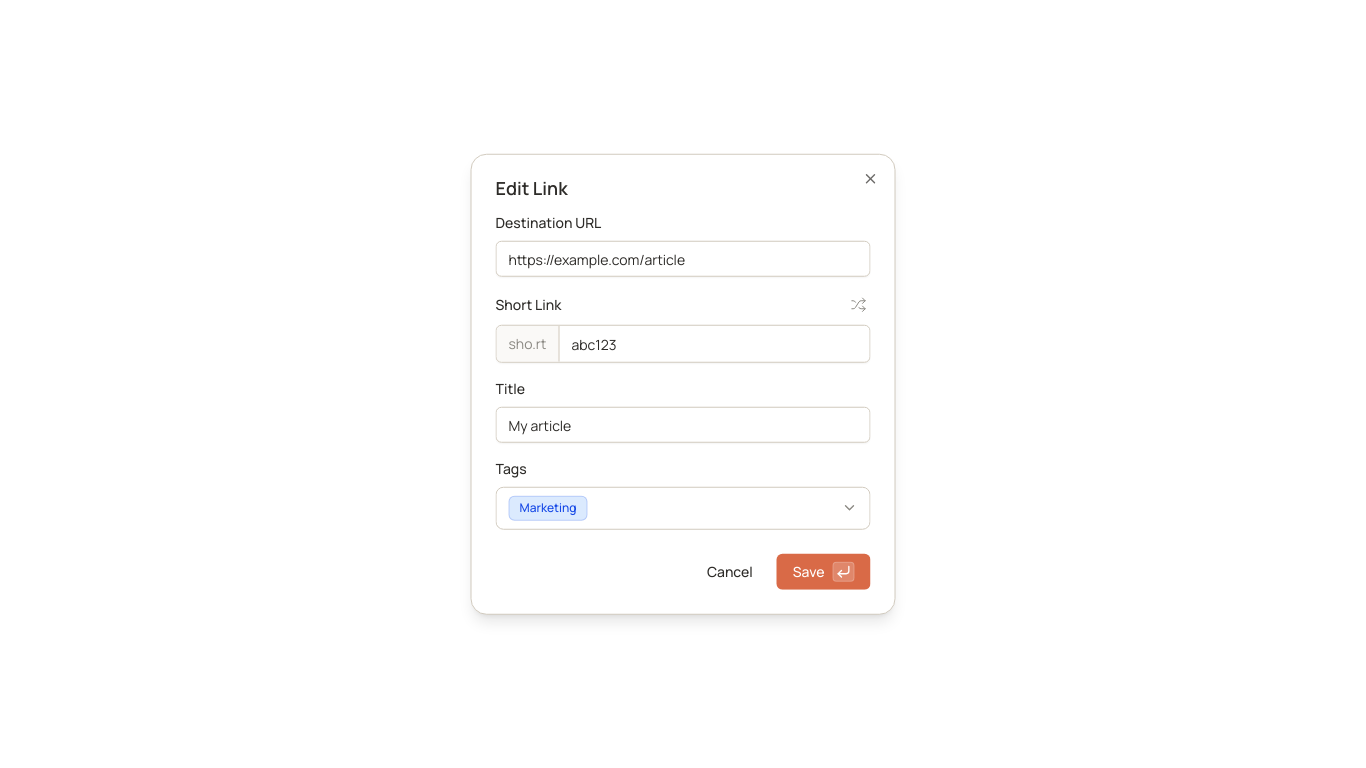
Test: EditLinkModal › keeps the dialog open and reports a taken key on conflict
What coordinates should you click on to do the following:
click the button "Save"
I would click on:
 (824, 571)
Its box is [777,553,870,589].
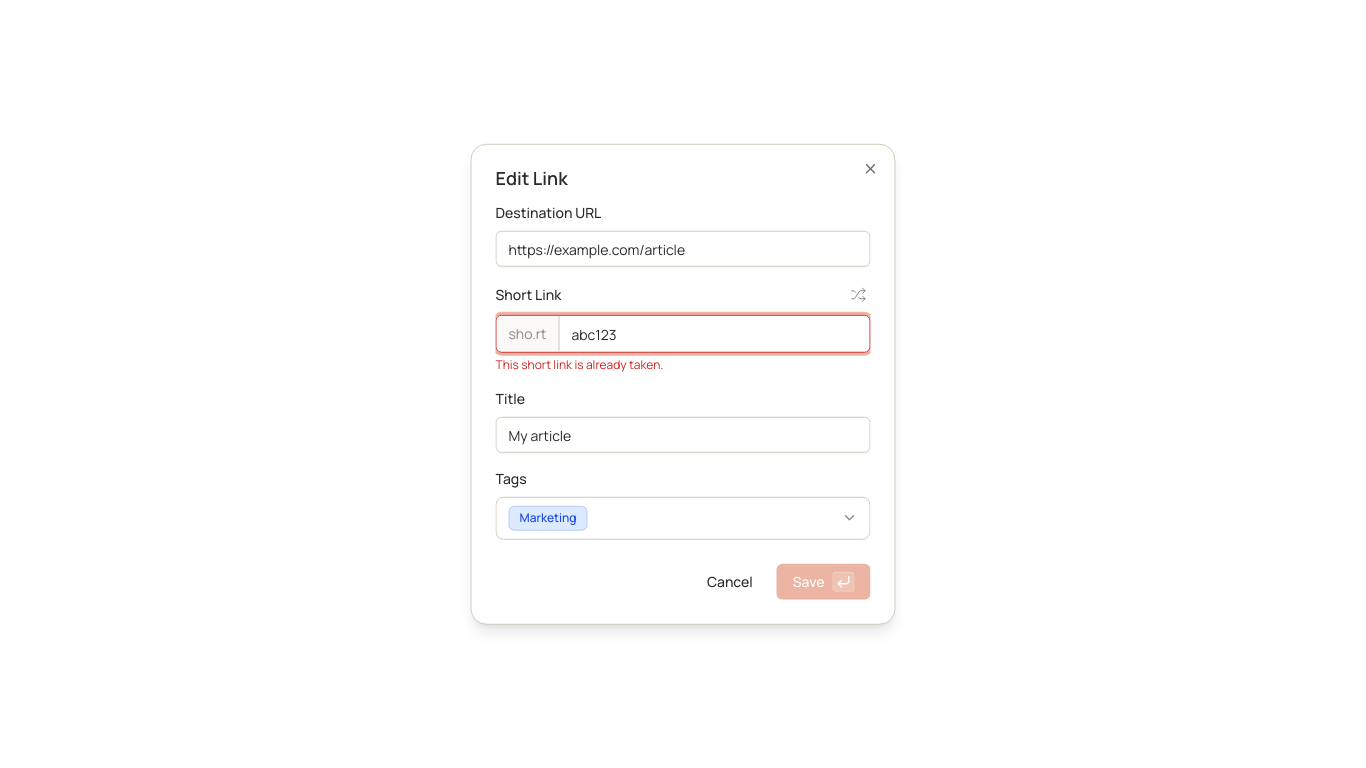
Check: the text "This short link is already taken." is shown, box [496,356,663,373]
